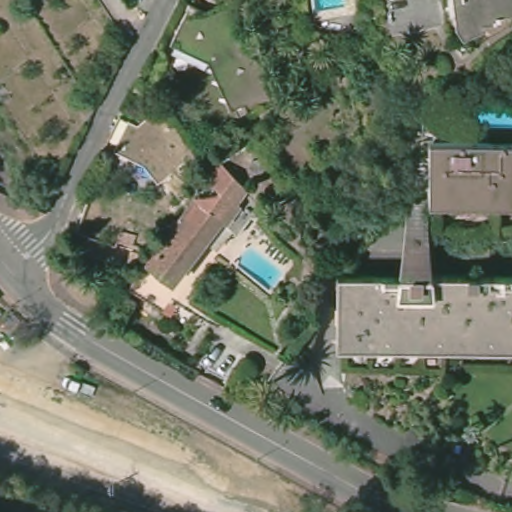pool: (235, 247, 286, 291), (477, 104, 512, 129), (308, 1, 348, 13)
